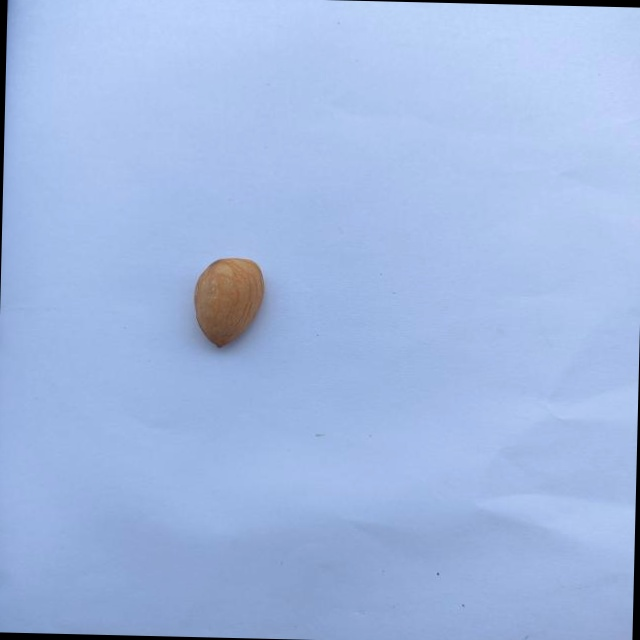grade2: (190, 254, 272, 352)
